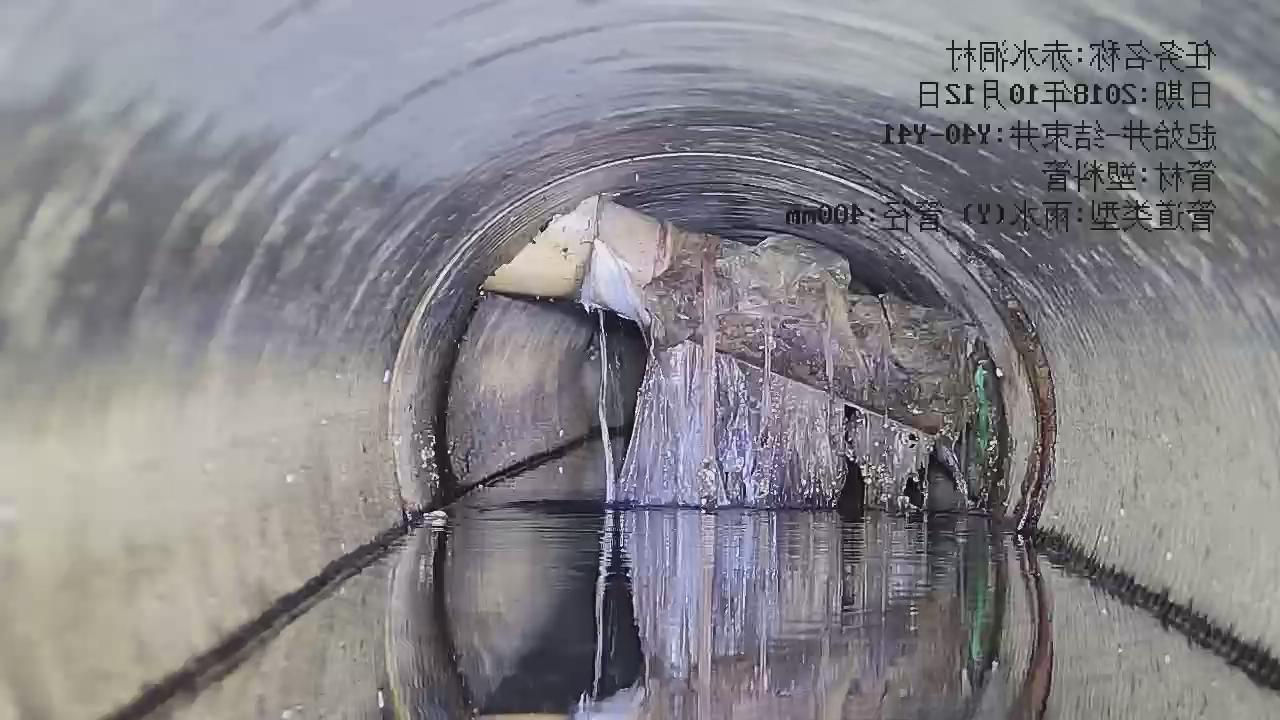CKTJ: (379, 145, 1062, 550)
YWCR: (484, 196, 1018, 510)
